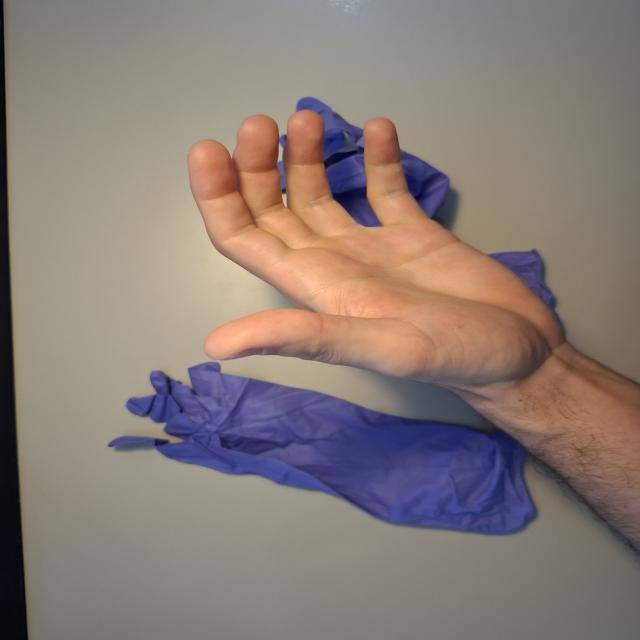glove_off: (184, 108, 577, 398)
